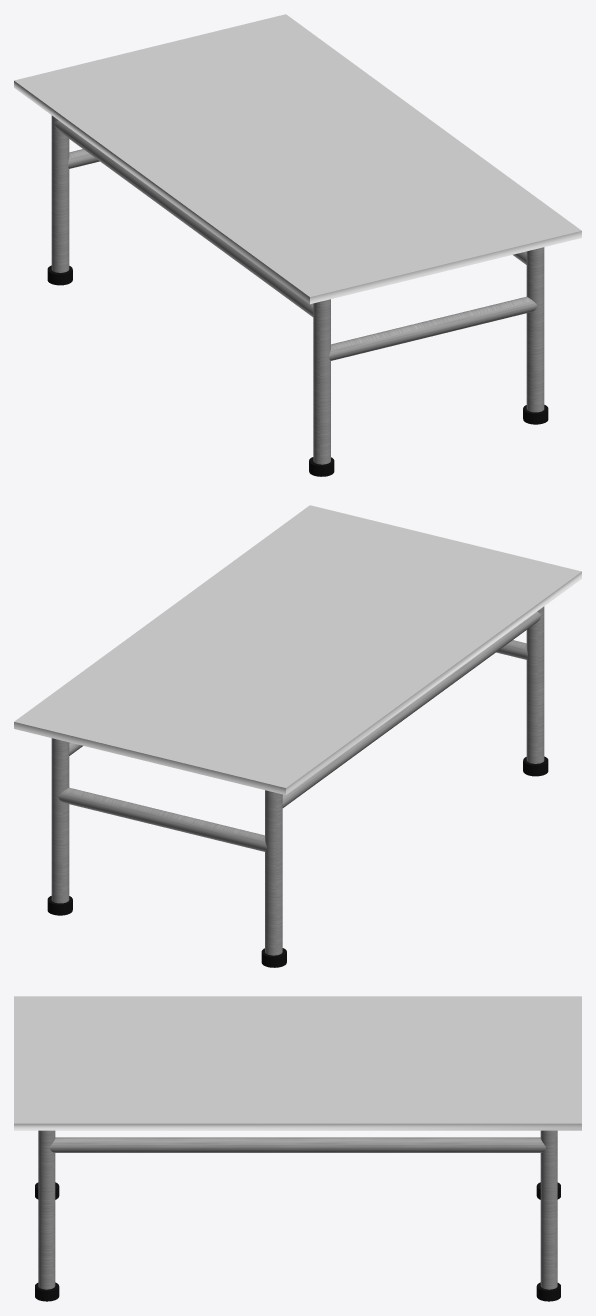
Rendered from desk.fbx.
The picture shows the model from 3 angles, top to bottom: view 1: azimuth 30°, elevation 25°; view 2: azimuth 150°, elevation 25°; view 3: azimuth 270°, elevation 25°; orthographic projection. The views are drawn at different scales.
Parts seen in each view (by area): view 1: Plane, Cylinder, Cylinder.001, Cylinder.002, Cylinder.003; view 2: Plane, Cylinder, Cylinder.001, Cylinder.002, Cylinder.003; view 3: Plane, Cylinder.002, Cylinder, Cylinder.003.
Boxes of the visible parts, left/top/right/bottom form: Plane: left=14, top=14, right=581, bottom=304; Cylinder: left=51, top=115, right=544, bottom=464; Cylinder.001: left=68, top=149, right=537, bottom=360; Cylinder.002: left=55, top=120, right=526, bottom=316; Cylinder.003: left=47, top=265, right=548, bottom=476; Plane: left=14, top=505, right=581, bottom=795; Cylinder: left=51, top=606, right=544, bottom=955; Cylinder.001: left=58, top=640, right=527, bottom=851; Cylinder.002: left=69, top=611, right=540, bottom=807; Cylinder.003: left=47, top=756, right=548, bottom=967; Plane: left=14, top=996, right=581, bottom=1130; Cylinder.002: left=50, top=1137, right=545, bottom=1152; Cylinder: left=38, top=1130, right=557, bottom=1289; Cylinder.003: left=35, top=1182, right=560, bottom=1301.
Size of the model in its own units: 200 by 136 by 377.
Materials: 3 (1 with a texture image).
